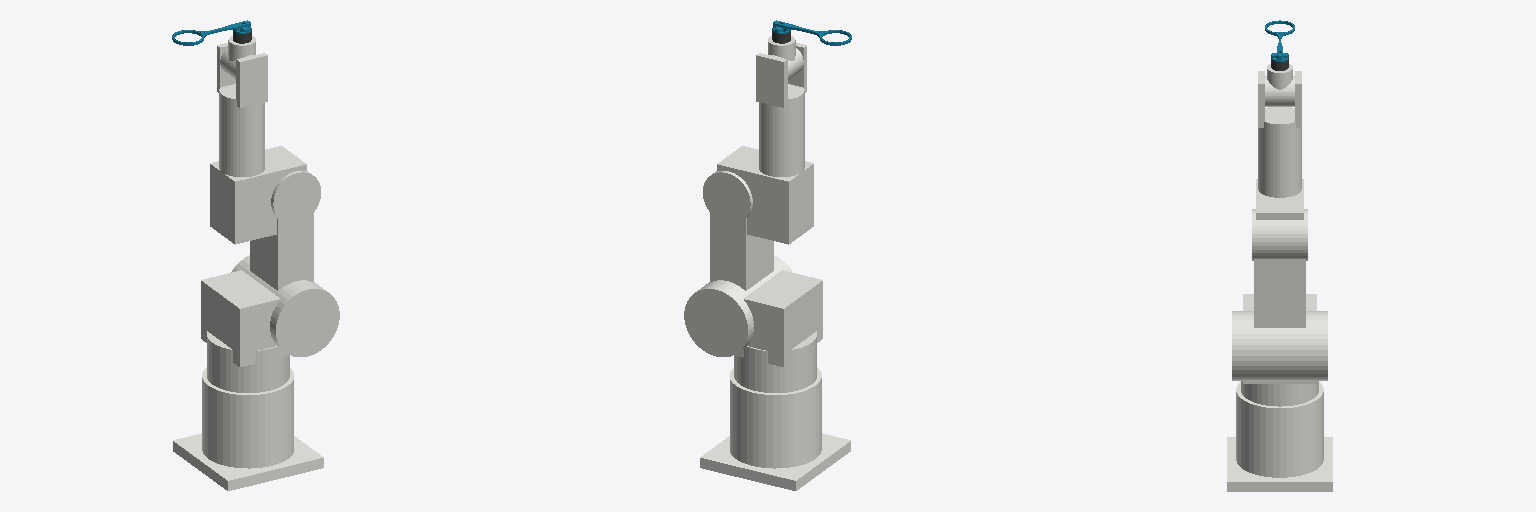
The robot description file, URDF, robot "RV6S":
<?xml version="1.0"?>
<!-- Mitsubishi RV-6S, generated from the DH parameters of ctu_mitsubishi.Rv6s:
     link_i is the DH frame i-1 rotated by joint i, the flange frame is
     Rv6s.fk(q). The link shapes are boxes / cylinders approximating the
     real arm, the adapter and the hoop are the CAD models. -->
<robot name="RV6S">
    <link name="base_link">
        <inertial><mass value="1"/><inertia ixx="0.01" iyy="0.01" izz="0.01" ixy="0" ixz="0" iyz="0"/></inertial>
        <visual>
            <origin xyz="0 0 0" rpy="0 0 0"/>
            <geometry><mesh filename="meshes/rv6s_base_link.stl" scale="0.001 0.001 0.001"/></geometry>
            <material name="base_link_color"><color rgba="0.95 0.95 0.93 1"/></material>
        </visual>
    </link>
    <joint name="joint1" type="revolute">
        <origin xyz="0 0 0" rpy="0 0 0"/>
        <parent link="base_link"/>
        <child link="link_1"/>
        <axis xyz="0 0 1"/>
        <limit effort="100" velocity="10" lower="-2.967060" upper="2.967060"/>
    </joint>
    <link name="link_1">
        <inertial><mass value="1"/><inertia ixx="0.01" iyy="0.01" izz="0.01" ixy="0" ixz="0" iyz="0"/></inertial>
        <visual>
            <origin xyz="0 0 0" rpy="0 0 0"/>
            <geometry><mesh filename="meshes/rv6s_link_1.stl" scale="0.001 0.001 0.001"/></geometry>
            <material name="link_1_color"><color rgba="0.92 0.92 0.9 1"/></material>
        </visual>
    </link>
    <joint name="joint2" type="revolute">
        <origin xyz="0.085 0 0.35" rpy="-0.785398163397 -1.57079632679 -0.785398163397"/>
        <parent link="link_1"/>
        <child link="link_2"/>
        <axis xyz="0 0 1"/>
        <limit effort="100" velocity="10" lower="-1.605703" upper="2.356194"/>
    </joint>
    <link name="link_2">
        <inertial><mass value="1"/><inertia ixx="0.01" iyy="0.01" izz="0.01" ixy="0" ixz="0" iyz="0"/></inertial>
        <visual>
            <origin xyz="0 0 0" rpy="0 0 0"/>
            <geometry><mesh filename="meshes/rv6s_link_2.stl" scale="0.001 0.001 0.001"/></geometry>
            <material name="link_2_color"><color rgba="0.92 0.92 0.9 1"/></material>
        </visual>
    </link>
    <joint name="joint3" type="revolute">
        <origin xyz="0.28 0 0" rpy="0 0 -1.57079632679"/>
        <parent link="link_2"/>
        <child link="link_3"/>
        <axis xyz="0 0 1"/>
        <limit effort="100" velocity="10" lower="-1.867502" upper="2.897247"/>
    </joint>
    <link name="link_3">
        <inertial><mass value="1"/><inertia ixx="0.01" iyy="0.01" izz="0.01" ixy="0" ixz="0" iyz="0"/></inertial>
        <visual>
            <origin xyz="0 0 0" rpy="0 0 0"/>
            <geometry><mesh filename="meshes/rv6s_link_3.stl" scale="0.001 0.001 0.001"/></geometry>
            <material name="link_3_color"><color rgba="0.92 0.92 0.9 1"/></material>
        </visual>
    </link>
    <joint name="joint4" type="revolute">
        <origin xyz="0.1 0 0" rpy="-1.57079632679 0 0"/>
        <parent link="link_3"/>
        <child link="link_4"/>
        <axis xyz="0 0 1"/>
        <limit effort="100" velocity="10" lower="-2.792527" upper="2.792527"/>
    </joint>
    <link name="link_4">
        <inertial><mass value="1"/><inertia ixx="0.01" iyy="0.01" izz="0.01" ixy="0" ixz="0" iyz="0"/></inertial>
        <visual>
            <origin xyz="0 0 0" rpy="0 0 0"/>
            <geometry><mesh filename="meshes/rv6s_link_4.stl" scale="0.001 0.001 0.001"/></geometry>
            <material name="link_4_color"><color rgba="0.92 0.92 0.9 1"/></material>
        </visual>
    </link>
    <joint name="joint5" type="revolute">
        <origin xyz="0 0 0.315" rpy="1.57079632679 0 0"/>
        <parent link="link_4"/>
        <child link="link_5"/>
        <axis xyz="0 0 1"/>
        <limit effort="100" velocity="10" lower="-2.094395" upper="2.094395"/>
    </joint>
    <link name="link_5">
        <inertial><mass value="1"/><inertia ixx="0.01" iyy="0.01" izz="0.01" ixy="0" ixz="0" iyz="0"/></inertial>
        <visual>
            <origin xyz="0 0 0" rpy="0 0 0"/>
            <geometry><mesh filename="meshes/rv6s_link_5.stl" scale="0.001 0.001 0.001"/></geometry>
            <material name="link_5_color"><color rgba="0.92 0.92 0.9 1"/></material>
        </visual>
    </link>
    <joint name="joint6" type="revolute">
        <origin xyz="0 0 0" rpy="1.57079632679 0 3.14159265359"/>
        <parent link="link_5"/>
        <child link="link_6"/>
        <axis xyz="0 0 1"/>
        <limit effort="100" velocity="10" lower="-6.283185" upper="6.283185"/>
    </joint>
    <link name="link_6">
        <inertial><mass value="1"/><inertia ixx="0.01" iyy="0.01" izz="0.01" ixy="0" ixz="0" iyz="0"/></inertial>
        <visual>
            <origin xyz="0 0 0" rpy="0 0 0"/>
            <geometry><mesh filename="meshes/rv6s_link_6.stl" scale="0.001 0.001 0.001"/></geometry>
            <material name="link_6_color"><color rgba="0.3 0.3 0.3 1"/></material>
        </visual>
    </link>
    <joint name="joint_flange" type="fixed">
        <origin xyz="0 0 0.085" rpy="0 0 0"/>
        <parent link="link_6"/>
        <child link="flange"/>
    </joint>
    <link name="flange">
        <inertial><mass value="1"/><inertia ixx="0.01" iyy="0.01" izz="0.01" ixy="0" ixz="0" iyz="0"/></inertial>
    </link>
    <joint name="joint_adapter" type="fixed">
        <origin xyz="0 0 0" rpy="3.14159265359 0 3.14159265359"/>
        <parent link="flange"/>
        <child link="adapter"/>
    </joint>
    <link name="adapter">
        <inertial><mass value="1"/><inertia ixx="0.01" iyy="0.01" izz="0.01" ixy="0" ixz="0" iyz="0"/></inertial>
        <visual>
            <origin xyz="0 0 0" rpy="0 0 1.5707963268"/>
            <geometry><mesh filename="meshes/mitsubishi_adapter.stl" scale="0.001 0.001 0.001"/></geometry>
            <material name="adapter_color"><color rgba="0.14 0.55 0.68 0.8"/></material>
        </visual>
    </link>
    <joint name="joint_hoop" type="fixed">
        <origin xyz="0 0 -0.008" rpy="0 0 0"/>
        <parent link="adapter"/>
        <child link="hoop"/>
    </joint>
    <link name="hoop">
        <inertial><mass value="1"/><inertia ixx="0.01" iyy="0.01" izz="0.01" ixy="0" ixz="0" iyz="0"/></inertial>
        <visual>
            <origin xyz="0 0 0" rpy="0 0 1.5707963268"/>
            <geometry><mesh filename="meshes/hoop.stl" scale="0.001 0.001 0.001"/></geometry>
            <material name="hoop_color"><color rgba="0.14 0.55 0.68 0.8"/></material>
        </visual>
    </link>
</robot>

--- Render facts (derived) ---
Views: 3 orthographic renders of the robot side by side, from view 1: azimuth 30°, elevation 25°; view 2: azimuth 150°, elevation 25°; view 3: azimuth 270°, elevation 25°.
Robot: RV6S — 10 links, 9 joints (6 revolute, 3 fixed); root link base_link; default pose: every joint at zero.
Visible links, largest first — view 1: link_1, base_link, link_4, link_2, link_3, link_5; view 2: link_1, base_link, link_4, link_2, link_3, link_5; view 3: base_link, link_1, link_2, link_4, link_3, link_5.
Link boxes in pixels (x1,y1,x2,y2): link_1: (201,255,339,392); base_link: (173,367,323,490); link_4: (217,43,267,176); link_2: (250,171,320,290); link_3: (210,146,306,244); link_5: (220,36,255,79); link_1: (684,255,822,392); base_link: (700,367,850,490); link_4: (756,43,806,176); link_2: (703,171,773,290); link_3: (717,146,813,244); link_5: (768,36,803,79); base_link: (1227,382,1332,491); link_1: (1232,294,1327,406); link_2: (1252,209,1307,327); link_4: (1258,71,1301,197); link_3: (1254,179,1305,258); link_5: (1265,64,1294,106).
Size in the robot's own frame: 0.3498 by 0.24 by 1.04 metres.
Meshes: 9 distinct files referenced, 9 mesh visuals loaded (9 binary STL).
